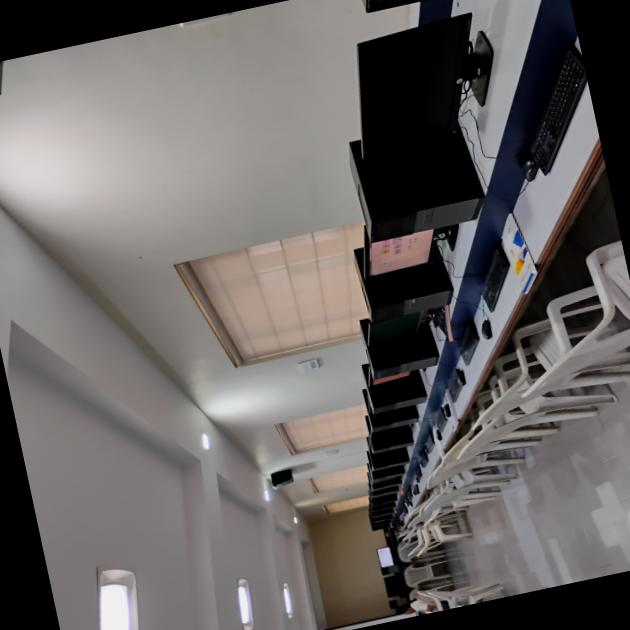computer: (326, 5, 514, 164)
desk: (384, 45, 606, 538)
light: (64, 552, 172, 630), (216, 568, 273, 630), (188, 427, 226, 458), (280, 588, 306, 624)
speaker: (262, 466, 301, 494)
windowscreen: (160, 218, 385, 390), (267, 396, 379, 472)
